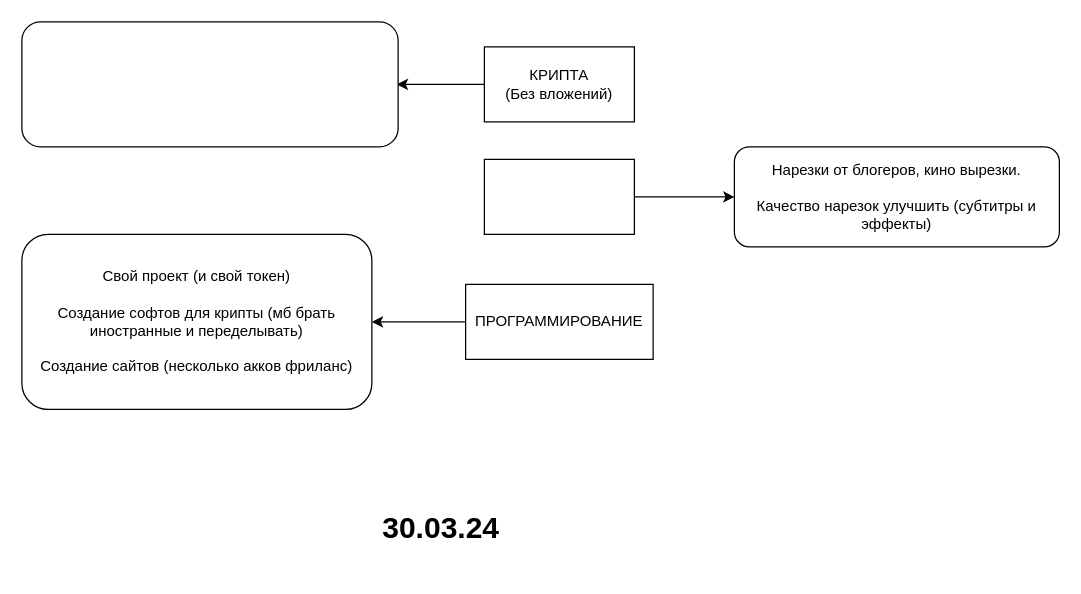
The diagram is 1081 pixels wide and 594 high, and some of its shapes have lost their labels. The shapes that lost their labels are listed below. From the top down, each one's centre as x and y in pixels, then its label:
the point at 209,84: - AirDrop (ретро, вайтлисты и т.п.) Слежка за проектами, инфлюенсерами
the point at 558,196: АРБИТРАЖ ТРАФИКА
